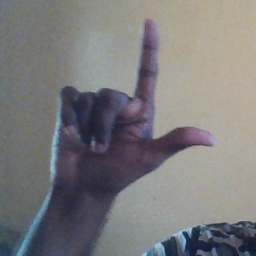L: (49, 18, 218, 190)
